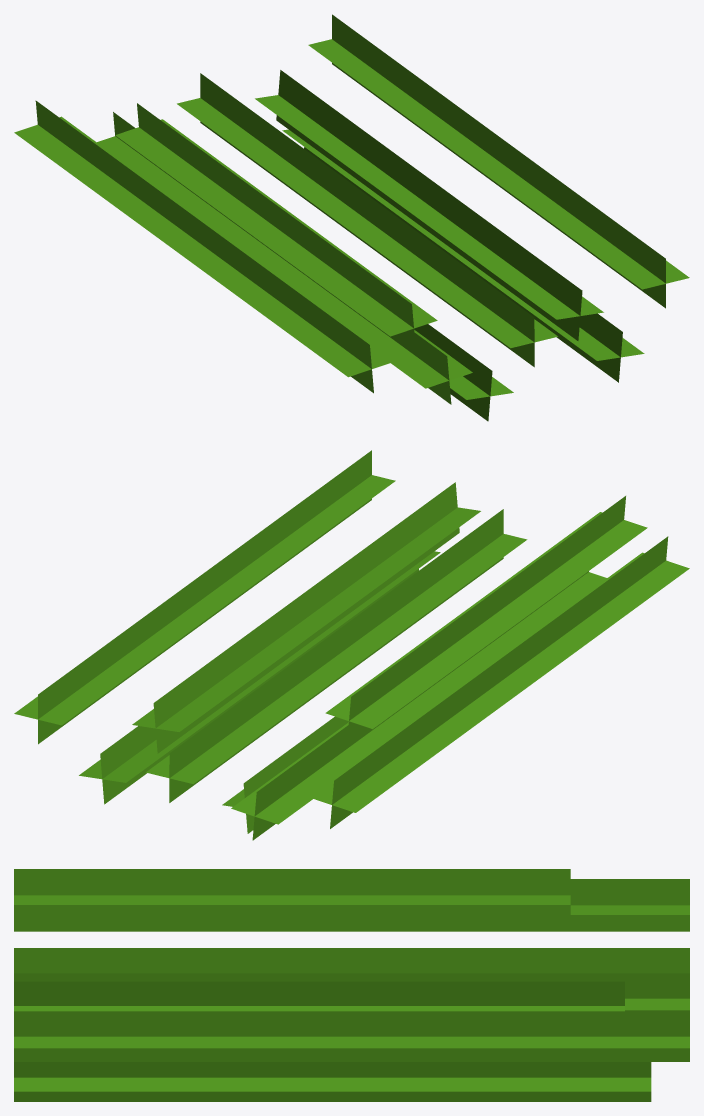
File: cao_2.FBX
The picture shows the model from 3 angles, top to bottom: view 1: azimuth 30°, elevation 25°; view 2: azimuth 150°, elevation 25°; view 3: azimuth 270°, elevation 25°; orthographic projection.
Parts seen in each view (by area): view 1: cao_2; view 2: cao_2; view 3: cao_2.
Part boxes in pixels (x1,y1,x2,y2): cao_2: (14, 14, 689, 421); cao_2: (14, 450, 689, 840); cao_2: (14, 869, 689, 1101).
Size of the model in its own units: 55.69 by 21.22 by 94.33.
